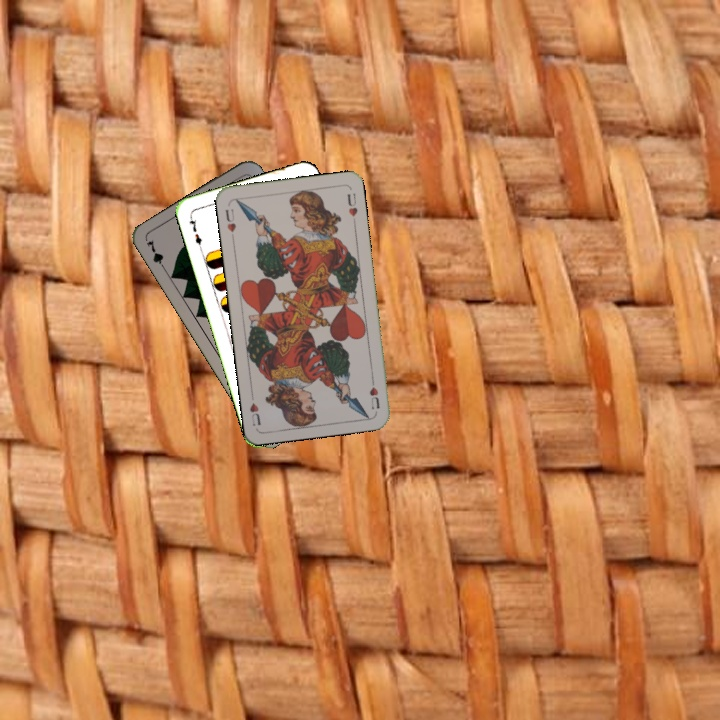E7: (185, 211, 204, 251)
G7: (143, 235, 169, 274)
HU: (365, 373, 382, 411), (221, 205, 239, 235)
